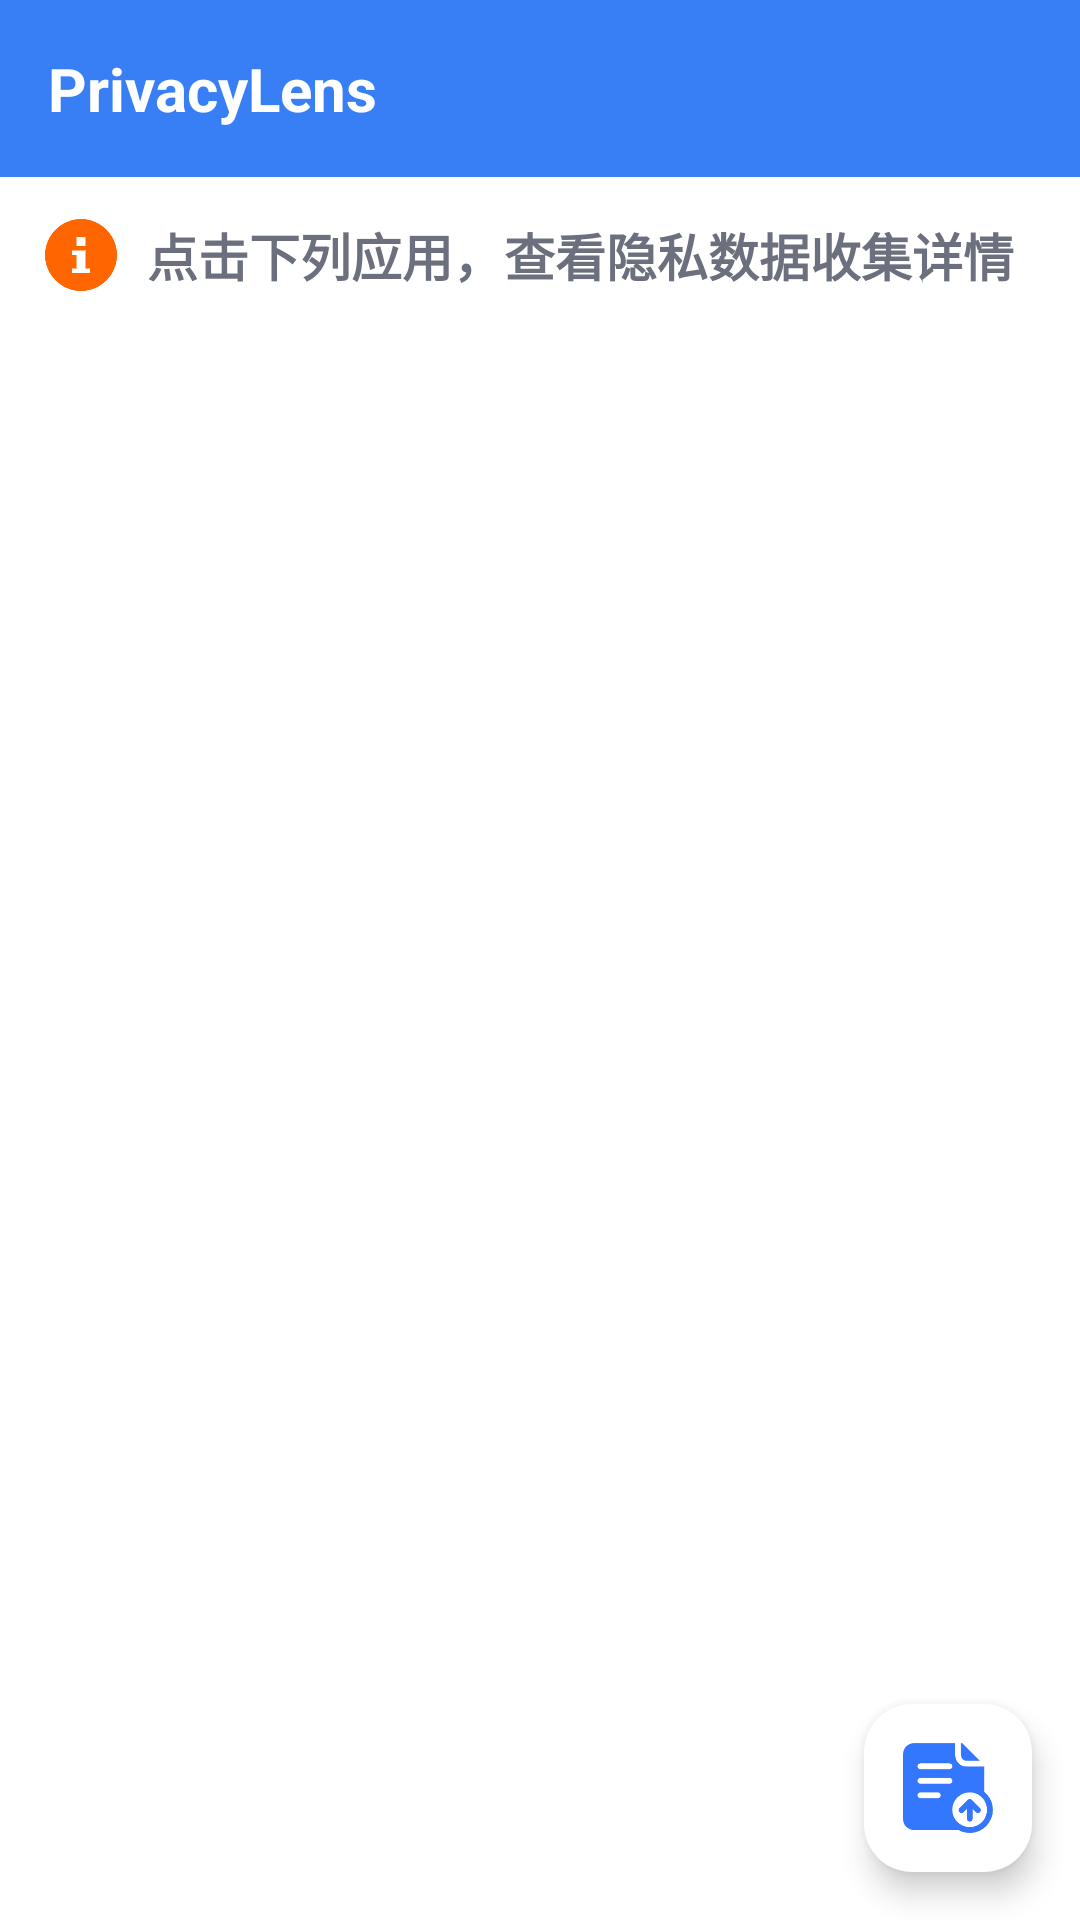

Icons on this 1080×1920 Android screen, each with the point to tap as [x,y]:
hint: [81,255]
上传文件: [948,1788]
